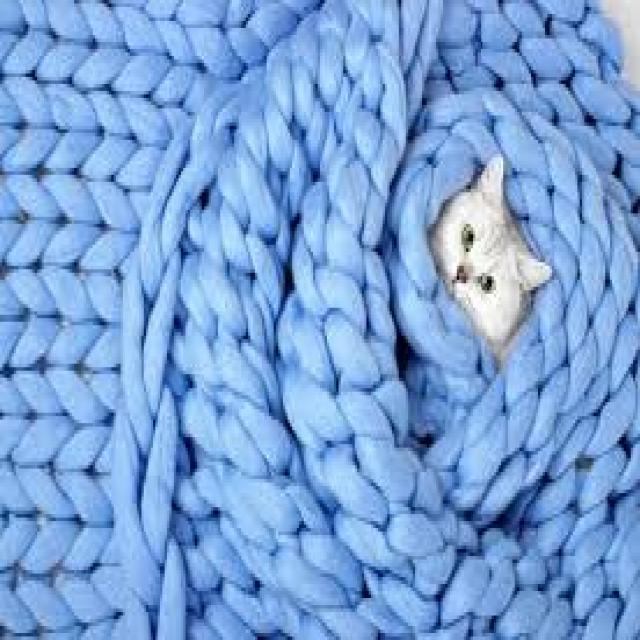Cat: (425, 150, 554, 366)
